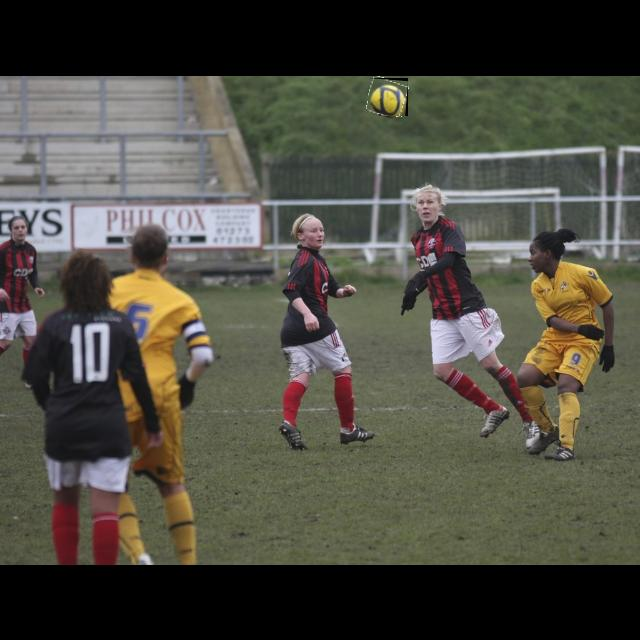Football: (368, 78, 408, 116)
